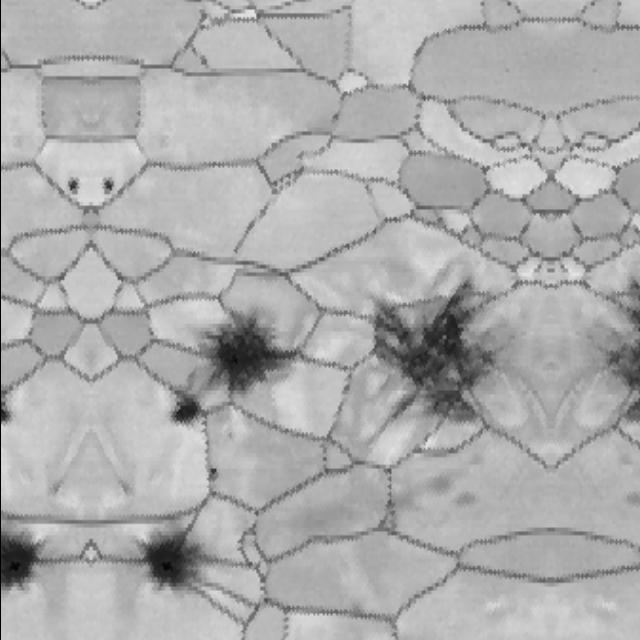good_void: (363, 264, 499, 442), (186, 310, 295, 411), (601, 264, 640, 439), (128, 513, 197, 599), (0, 514, 50, 598), (167, 386, 213, 437), (0, 386, 11, 437), (201, 463, 221, 483), (98, 178, 112, 194), (66, 178, 80, 194)
